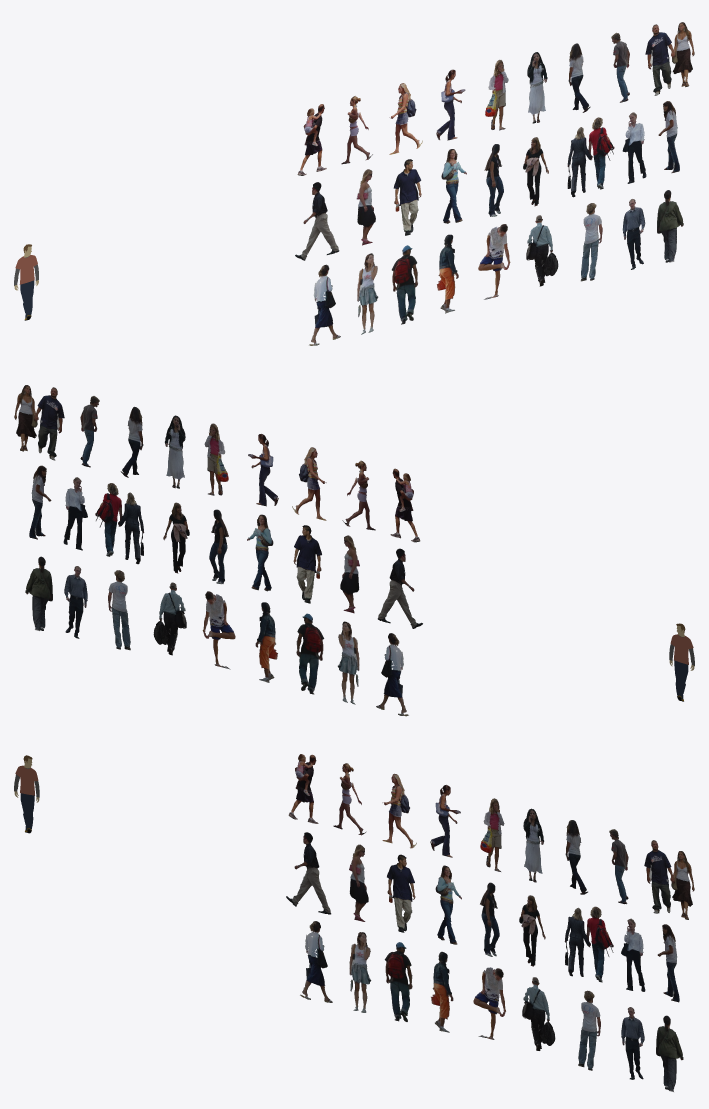
Rendered from some4.dae.
3 renders of one model, top to bottom at view 1: azimuth 30°, elevation 25°; view 2: azimuth 150°, elevation 25°; view 3: azimuth 330°, elevation 25°, orthographic. The views are drawn at different scales.
Parts seen in each view (by area): view 1: SketchUp (×5), Component_29, Component_35, Component_24, Component_27, Component_19, Component_23, Component_10, Component_20, Component_22, Component_33, Component_5 (+11 smaller); view 2: SketchUp (×5), Component_29, Component_35, Component_24, Component_27, Component_19, Component_23, Component_10, Component_20, Component_22, Component_33, Component_5 (+11 smaller); view 3: SketchUp (×5), Component_29, Component_35, Component_24, Component_27, Component_19, Component_23, Component_10, Component_20, Component_22, Component_33, Component_5 (+11 smaller).
Part boxes in pixels (x1,y1,x2,y2): SketchUp (×5): (341, 52, 614, 324); Component_29: (645, 22, 694, 95); Component_35: (393, 159, 421, 235); Component_24: (526, 215, 558, 286); Component_27: (657, 190, 683, 262); Component_19: (308, 264, 340, 345); Component_23: (478, 224, 510, 299); Component_10: (295, 182, 339, 260); Component_20: (357, 253, 378, 334); Component_22: (436, 234, 458, 313); Component_33: (622, 199, 645, 269); Component_5: (485, 59, 508, 130); SketchUp (×5): (95, 415, 375, 694); Component_29: (14, 385, 64, 460); Component_35: (293, 525, 321, 603); Component_24: (153, 582, 186, 655); Component_27: (25, 556, 52, 630); Component_19: (376, 633, 408, 716); Component_23: (202, 591, 235, 669); Component_10: (377, 548, 422, 628); Component_20: (337, 621, 359, 704); Component_22: (255, 602, 277, 682); Component_33: (64, 566, 87, 638); Component_5: (204, 423, 228, 495); SketchUp (×5): (333, 763, 613, 1070); Component_29: (644, 840, 694, 919); Component_35: (387, 854, 415, 932); Component_24: (522, 977, 555, 1050); Component_27: (656, 1015, 683, 1091); Component_19: (300, 921, 332, 1002); Component_23: (473, 967, 505, 1039); Component_10: (286, 832, 331, 914); Component_20: (349, 932, 371, 1012); Component_22: (431, 951, 453, 1032); Component_33: (621, 1007, 644, 1079); Component_5: (480, 798, 504, 871).
Size of the model in its own units: 659 by 12.8 by 231.
16 materials, 8 textured.
